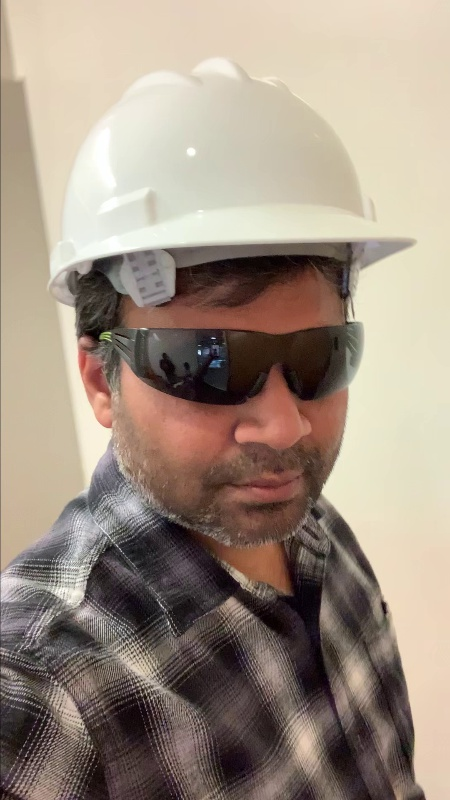glasses: (121, 316, 366, 398)
helmet: (63, 52, 382, 221)
